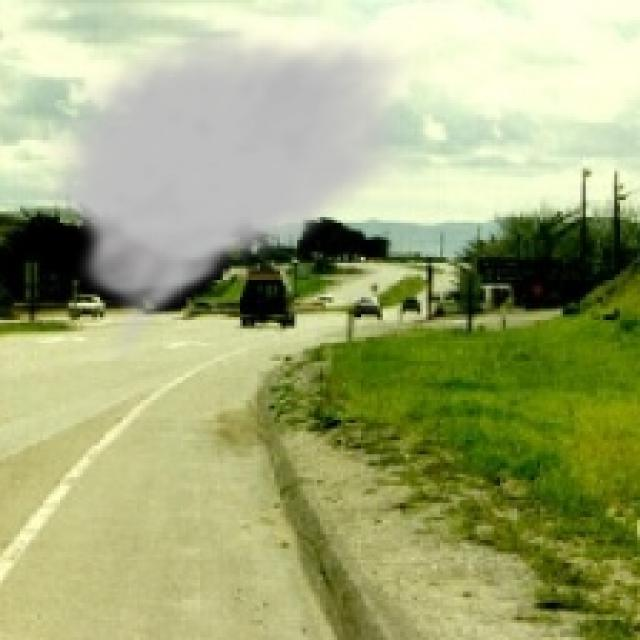Smoke: (34, 20, 429, 366)
